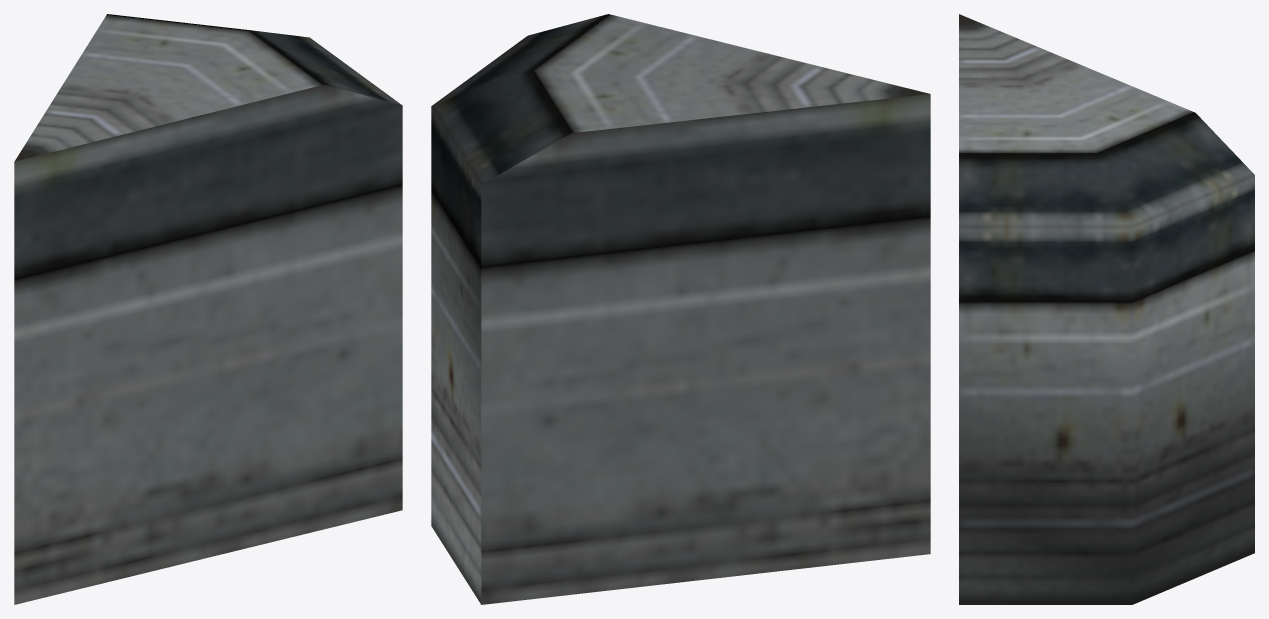
File: Edges_17.fbx
3 views of the same model, side by side, from view 1: azimuth 30°, elevation 25°; view 2: azimuth 150°, elevation 25°; view 3: azimuth 270°, elevation 25° (orthographic). The views are drawn at different scales.
Parts seen in each view (by area): view 1: Edges_17; view 2: Edges_17; view 3: Edges_17.
Boxes of the visible parts, bbox=[...] form: Edges_17: bbox=[14, 14, 402, 604]; Edges_17: bbox=[431, 14, 930, 604]; Edges_17: bbox=[959, 14, 1254, 604].
Bounding box in the file's own units: 25.07 × 27.46 × 17.73.
1 material, 1 textured.
